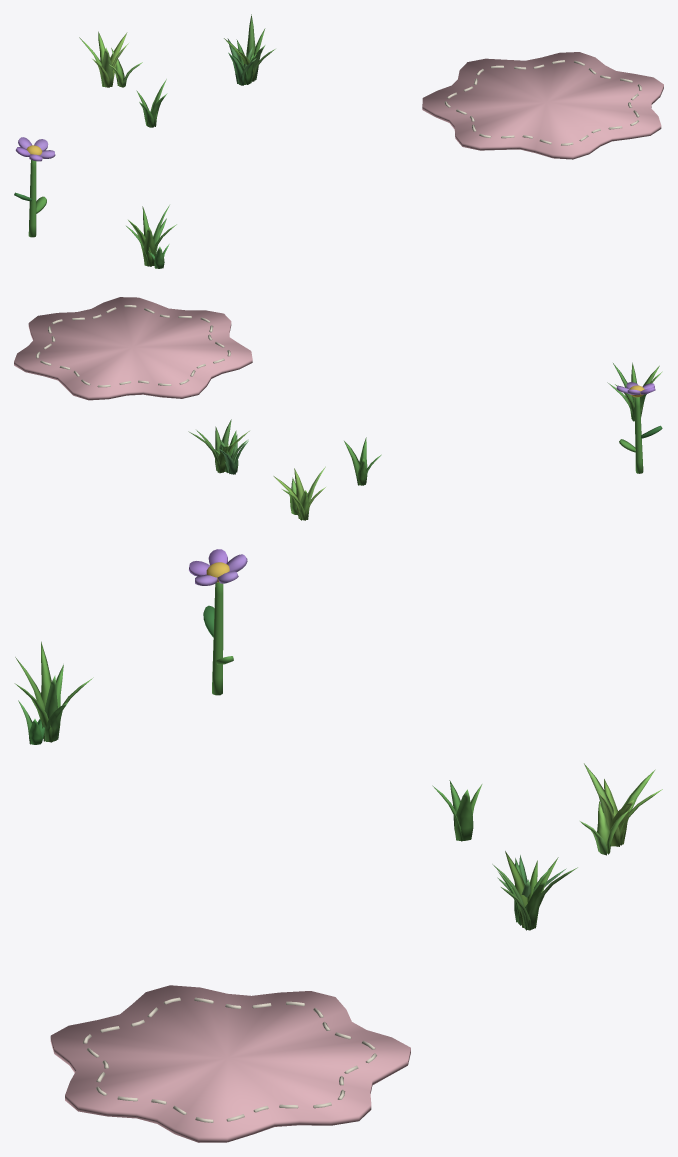
Rendered from W3_FloraRing_9_12.fbx.
The picture shows the model from 3 angles, top to bottom: view 1: azimuth 30°, elevation 25°; view 2: azimuth 150°, elevation 25°; view 3: azimuth 270°, elevation 25°; orthographic projection. The views are drawn at different scales.
Visible parts, largest first — view 1: W3_FloraRing_9_12; view 2: W3_FloraRing_9_12; view 3: W3_FloraRing_9_12.
Part boxes in pixels (x1,y1,x2,y2): W3_FloraRing_9_12: (14,14,663,268); W3_FloraRing_9_12: (14,297,662,520); W3_FloraRing_9_12: (14,549,662,1142).
Bounding box in the file's own units: 1.63 × 0.2274 × 0.9626.
